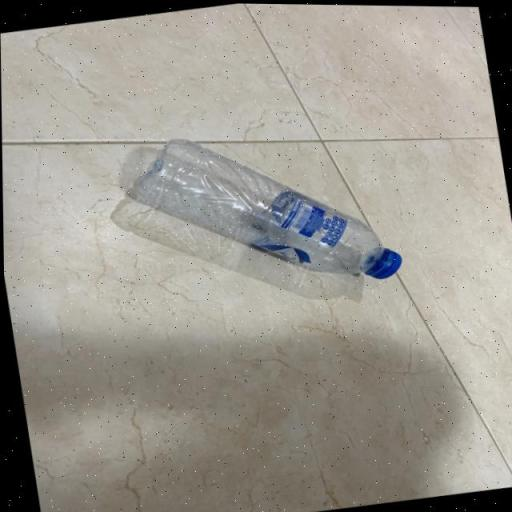plastic: (125, 139, 403, 279)
